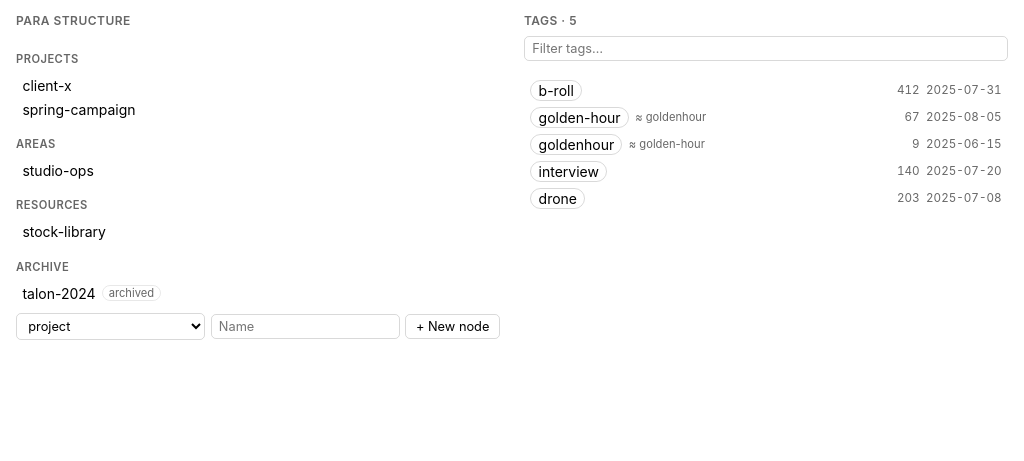
Scenario: selecting a node fills the detail card with what the row says
Click the button "client-x".
click(47, 86)  # box x1=16 y1=74 x2=500 y2=97
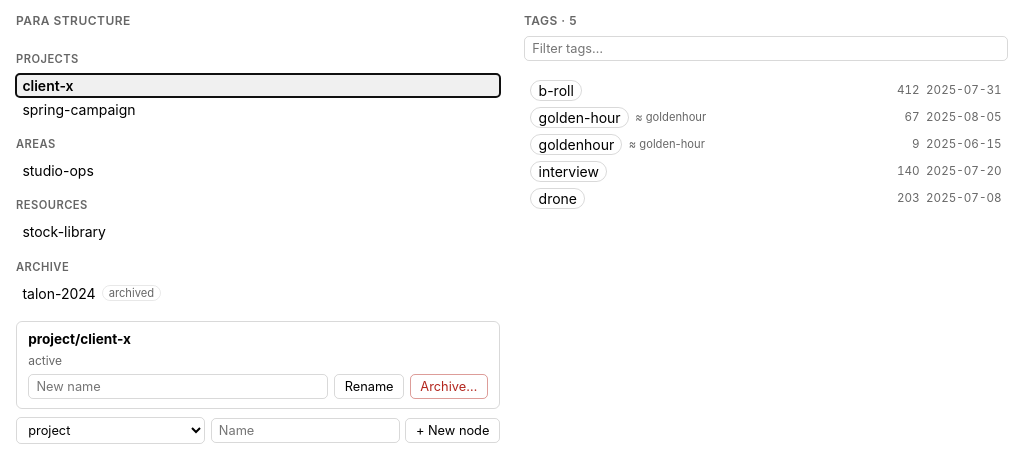
Expected: the element named "Selected node" shows "active", x1=28 y1=353 x2=62 y2=368
